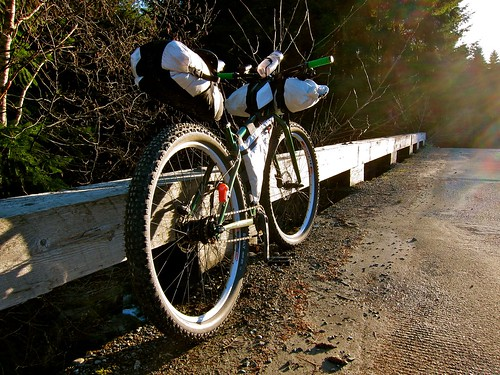bicicle: (112, 36, 340, 344)
